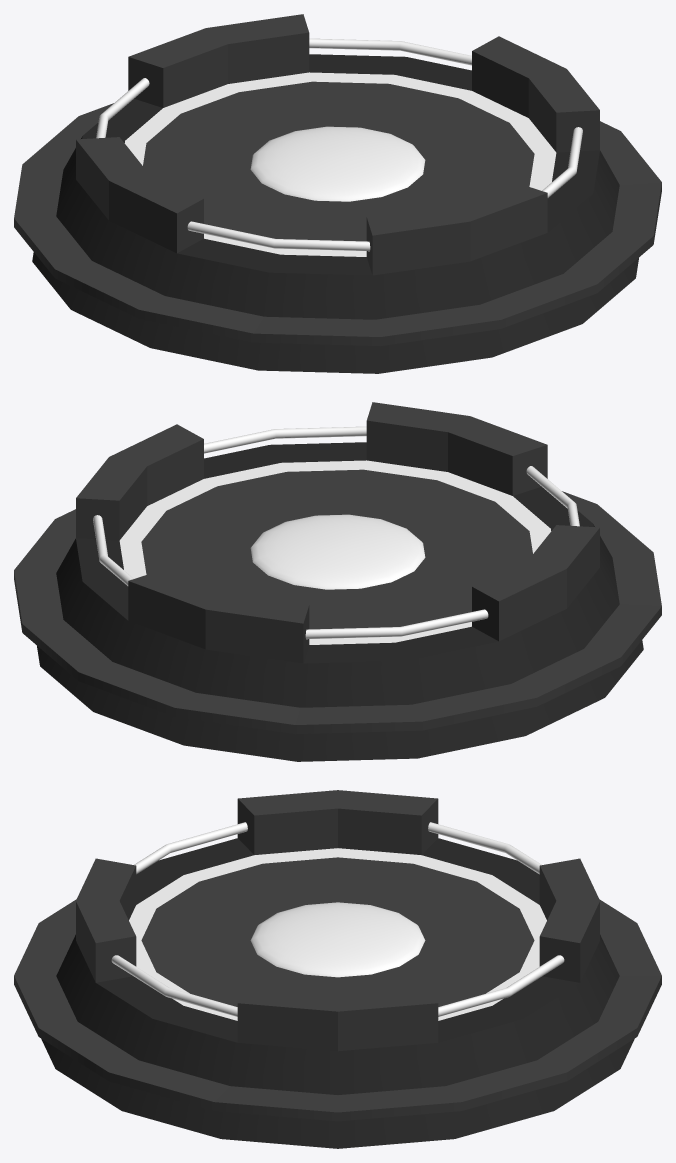
File: Pedestal.fbx
The picture shows the model from 3 angles, top to bottom: view 1: azimuth 30°, elevation 25°; view 2: azimuth 150°, elevation 25°; view 3: azimuth 270°, elevation 25°; orthographic projection.
Visible parts, largest first — view 1: Pedestal; view 2: Pedestal; view 3: Pedestal.
Boxes of the visible parts, x1,y1,x2,y2 form: Pedestal: (14,14,661,373); Pedestal: (14,402,661,761); Pedestal: (14,790,661,1148).
Size of the model in its own units: 14.83 by 3 by 14.83.
